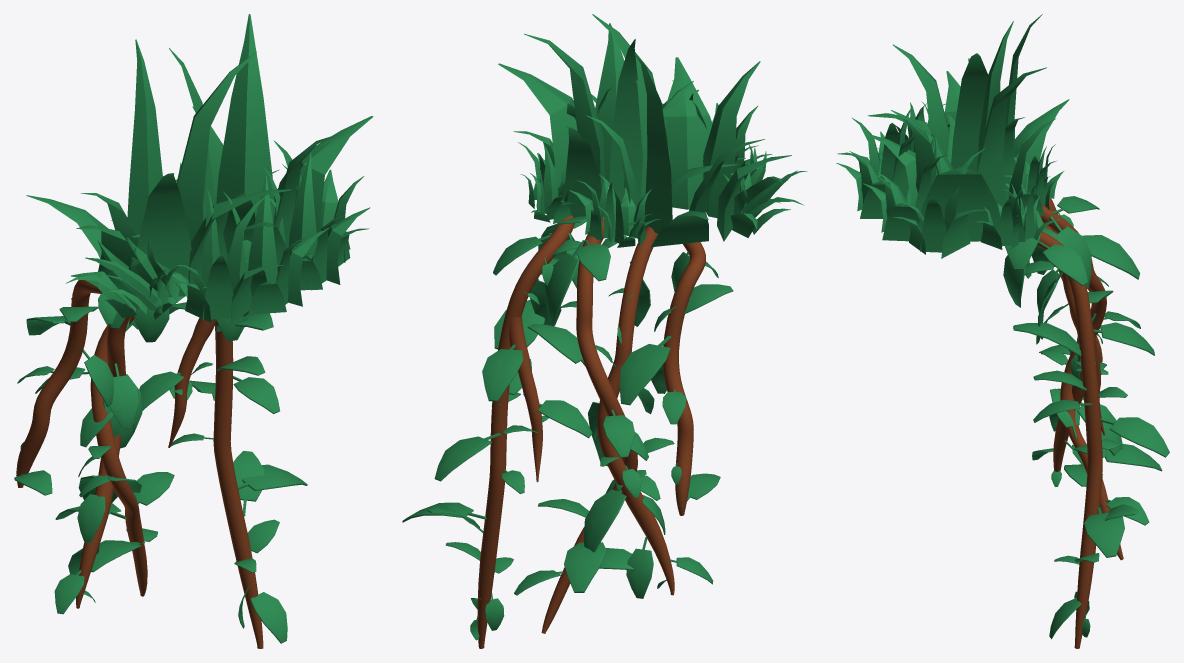
File: grass&vines.glb
The picture shows the model from 3 angles, left to right: view 1: azimuth 30°, elevation 25°; view 2: azimuth 150°, elevation 25°; view 3: azimuth 270°, elevation 25°; orthographic projection. The views are drawn at different scales.
Parts seen in each view (by area): view 1: BezierCurve; view 2: BezierCurve; view 3: BezierCurve.
Boxes of the visible parts, left/top/right/bottom form: BezierCurve: left=14, top=14, right=373, bottom=648; BezierCurve: left=402, top=14, right=807, bottom=648; BezierCurve: left=836, top=14, right=1169, bottom=648.
Size of the model in its own units: 10.26 by 19.31 by 10.2.
